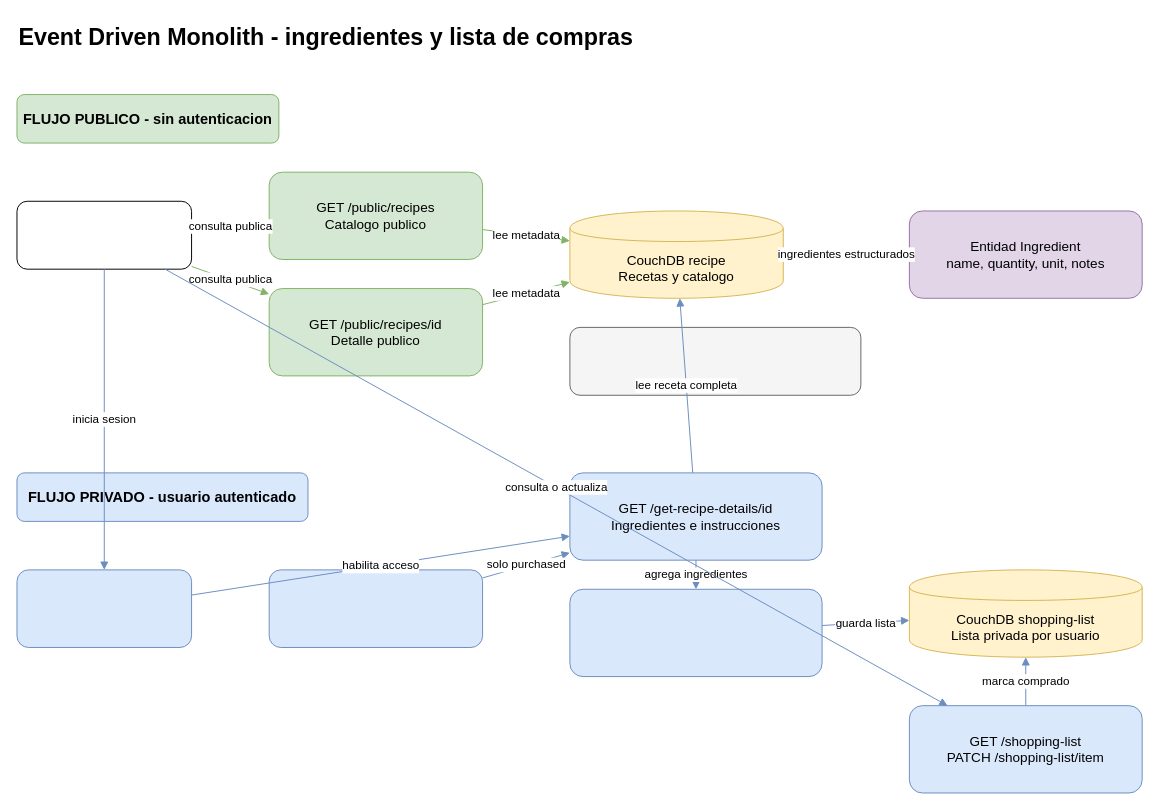
Image size: 1159x810. Some labels were removed from this diagram. The box of each missing label's shape, as (x1, y1, x2, y2) in pixels:
Cliente web o movil: (16, 200, 192, 269)
Compra confirmada estado purchased: (268, 569, 483, 647)
POST /login JWT Bearer: (16, 569, 192, 647)
POST /shopping-list/from-recipe/id Agregar ingredientes: (569, 588, 822, 677)
Se ocultan precio, ingredientes detallados e instrucciones: (569, 326, 861, 395)
